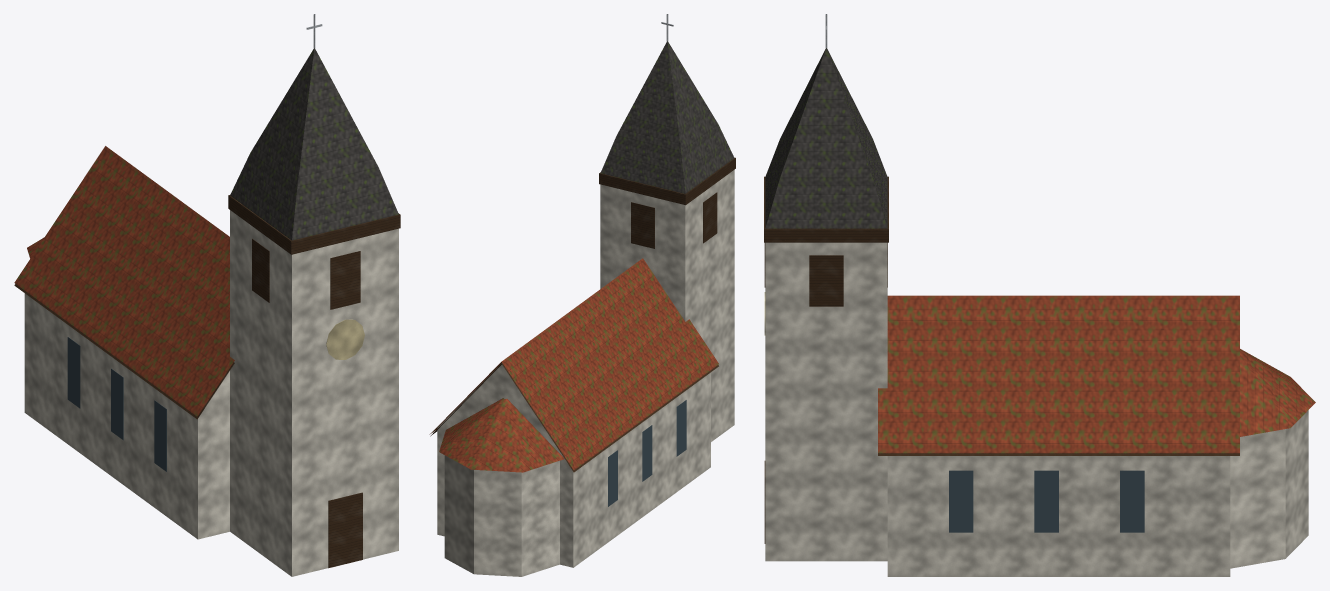
The model's file is chapel.glb.
3 views of the same model, side by side, from view 1: azimuth 30°, elevation 25°; view 2: azimuth 150°, elevation 25°; view 3: azimuth 270°, elevation 25° (orthographic). The views are drawn at different scales.
Parts seen in each view (by area): view 1: chapel; view 2: chapel; view 3: chapel.
Boxes of the visible parts, x1=… form: chapel: x1=14, y1=14, x2=400, y2=576; chapel: x1=429, y1=14, x2=735, y2=576; chapel: x1=764, y1=14, x2=1315, y2=576.
Bounding box in the file's own units: 8.51 × 23.5 × 22.55.
Materials: 7 (6 with a texture image).
